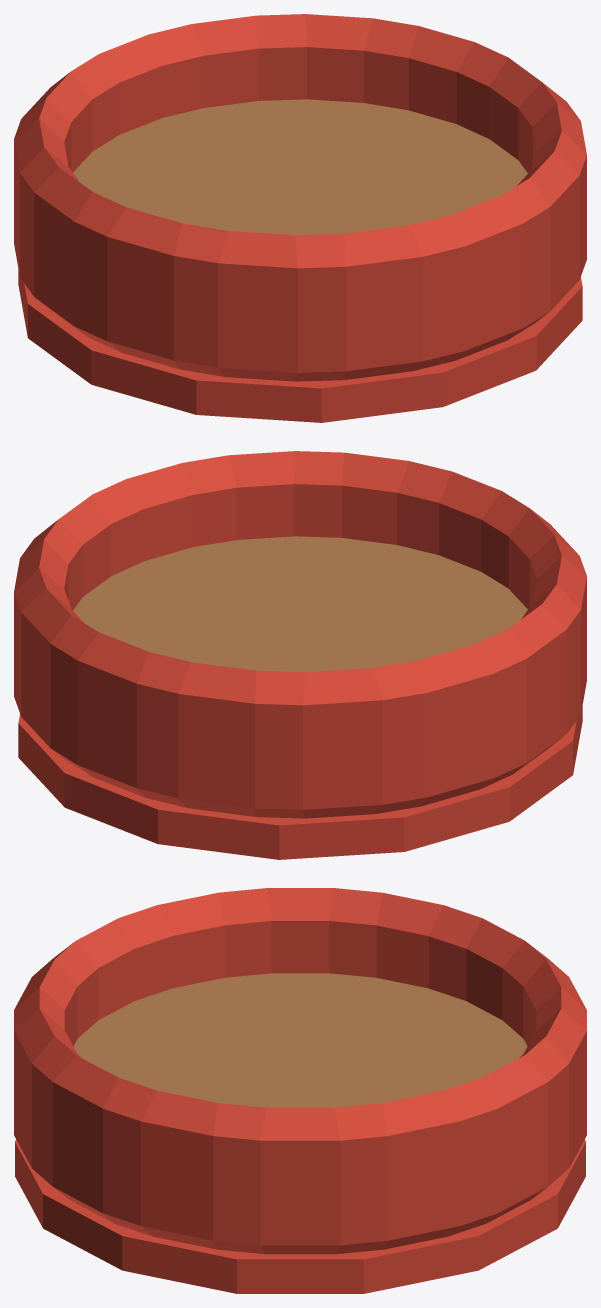
The model's file is CatCafe_Item_FoodBowl.fbx.
The picture shows the model from 3 angles, top to bottom: view 1: azimuth 30°, elevation 25°; view 2: azimuth 150°, elevation 25°; view 3: azimuth 270°, elevation 25°; orthographic projection.
Parts seen in each view (by area): view 1: CatCafe_Item_FoodBowl; view 2: CatCafe_Item_FoodBowl; view 3: CatCafe_Item_FoodBowl.
Part boxes in pixels (bbox=[...]): CatCafe_Item_FoodBowl: bbox=[14, 14, 586, 422]; CatCafe_Item_FoodBowl: bbox=[14, 451, 586, 859]; CatCafe_Item_FoodBowl: bbox=[14, 888, 586, 1293].
Size of the model in its own units: 0.8969 by 0.31 by 0.9026.
Materials: 1 (1 with a texture image).
